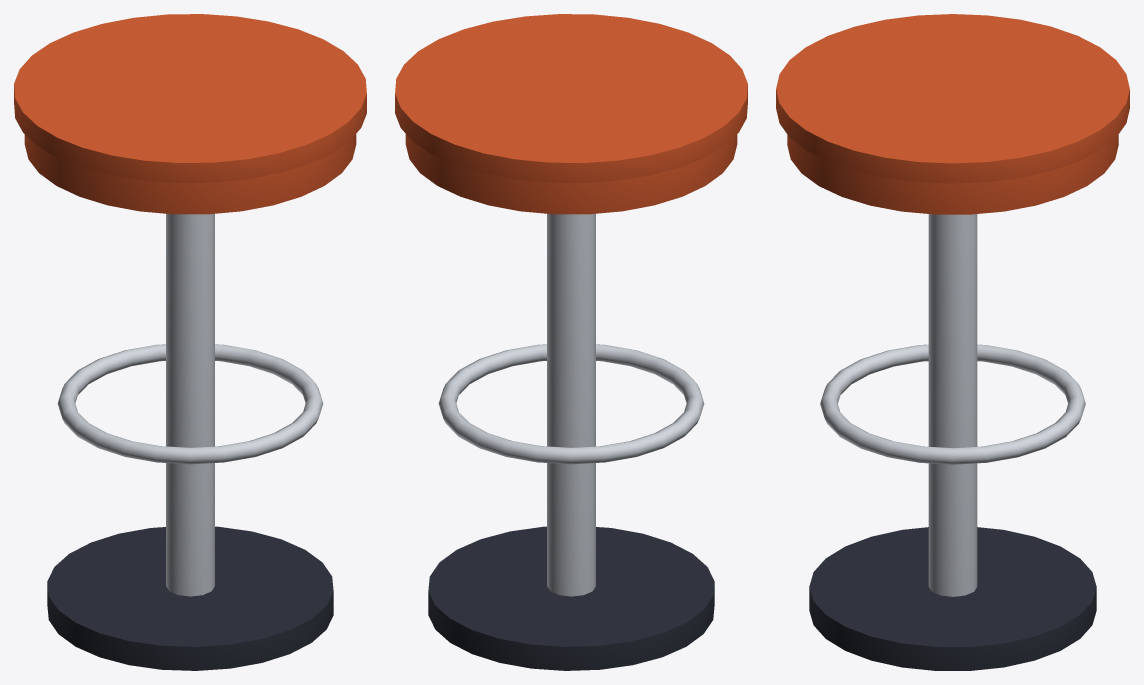
The model's file is drafting-stool.glb.
3 renders of one model, left to right at view 1: azimuth 30°, elevation 25°; view 2: azimuth 150°, elevation 25°; view 3: azimuth 270°, elevation 25°, orthographic.
Parts seen in each view (by area): view 1: anim-1-rotor-solid, drafting-stool-solid, drafting-stool-metal; view 2: anim-1-rotor-solid, drafting-stool-solid, drafting-stool-metal; view 3: anim-1-rotor-solid, drafting-stool-solid, drafting-stool-metal.
Boxes of the visible parts, x1=… form: anim-1-rotor-solid: x1=14, y1=14, x2=366, y2=214; drafting-stool-solid: x1=47, y1=526, x2=333, y2=670; drafting-stool-metal: x1=57, y1=213, x2=323, y2=596; anim-1-rotor-solid: x1=395, y1=14, x2=747, y2=214; drafting-stool-solid: x1=428, y1=526, x2=714, y2=670; drafting-stool-metal: x1=438, y1=213, x2=704, y2=596; anim-1-rotor-solid: x1=776, y1=14, x2=1129, y2=214; drafting-stool-solid: x1=809, y1=527, x2=1096, y2=670; drafting-stool-metal: x1=820, y1=214, x2=1085, y2=596.
Size of the model in its own units: 0.2555 by 0.416 by 0.2555.
